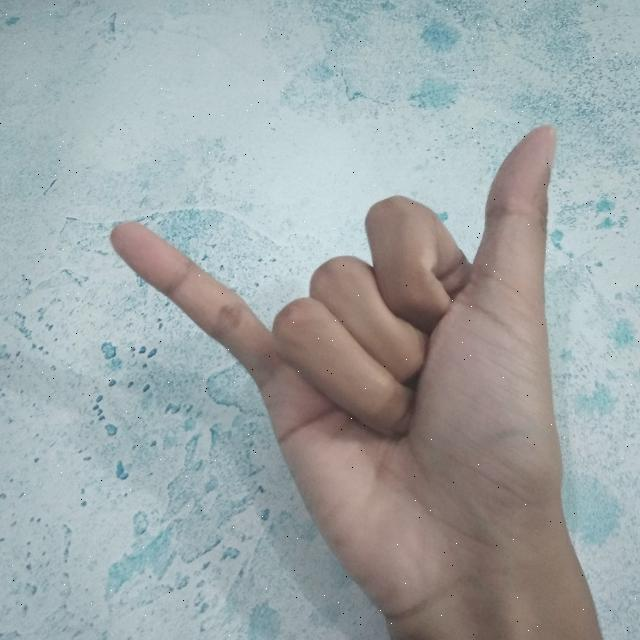Y: (102, 113, 609, 640)
